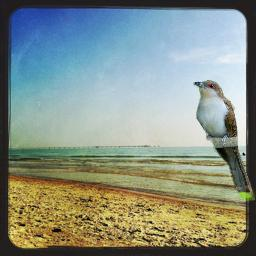Cuckoo: (193, 80, 255, 201)
